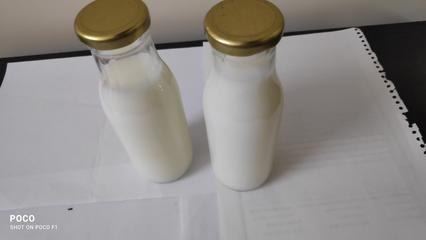milk: (66, 1, 196, 192), (188, 8, 294, 198)
